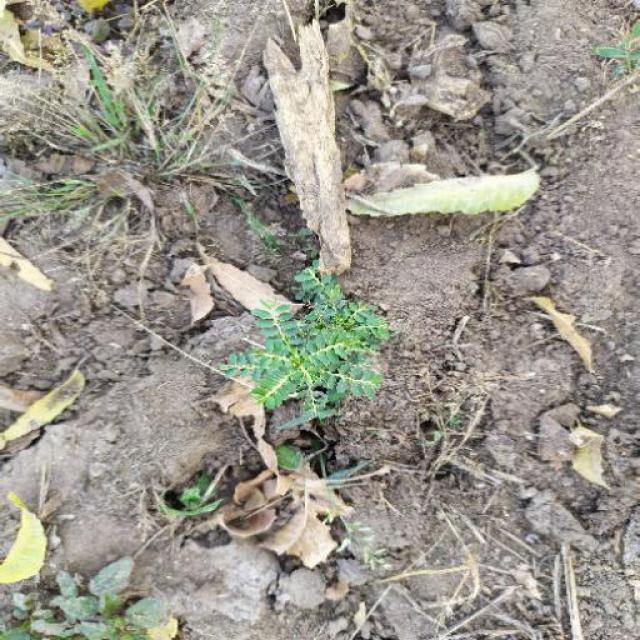weed: (14, 30, 260, 269), (209, 266, 391, 445)
